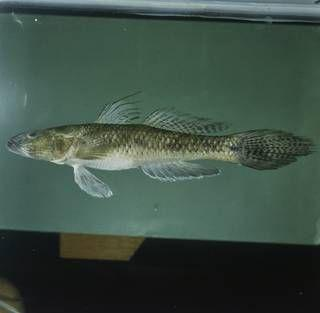Goby: (8, 95, 315, 202)
